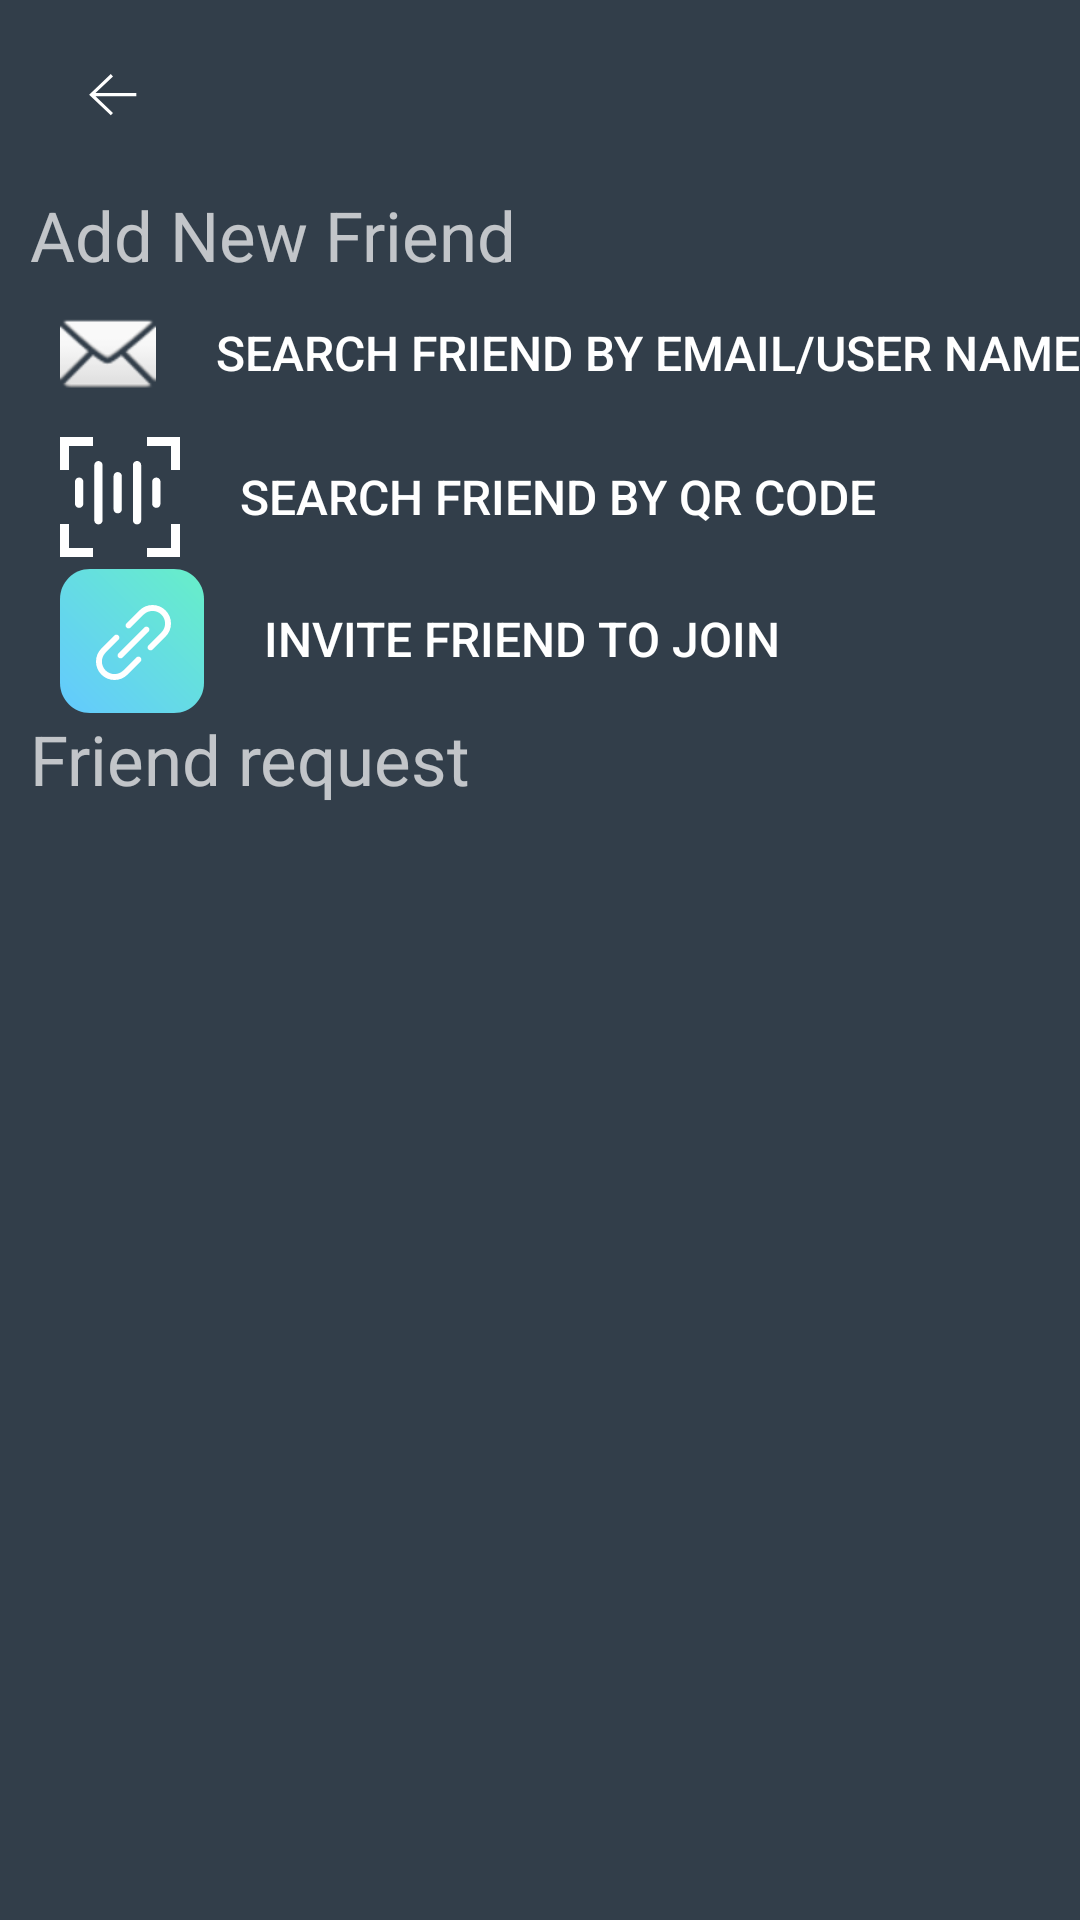

Icons on this 1080px x 1920px Android screen, each with the point to tap as (x,y):
back arrow: (113,94)
